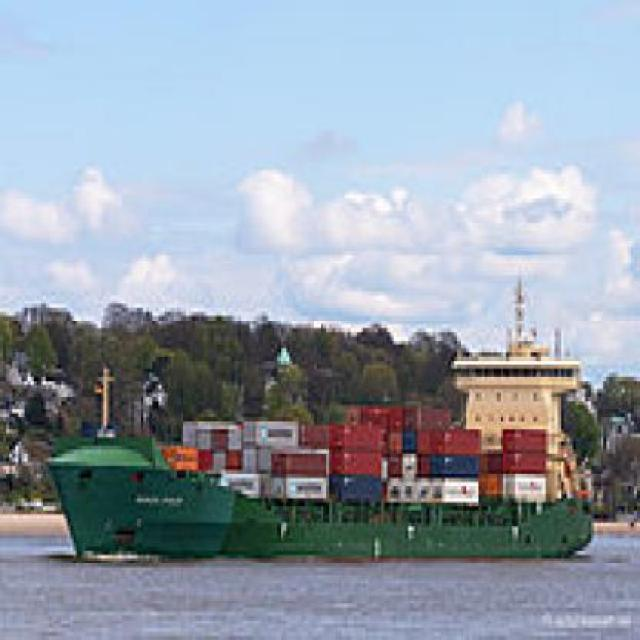container: (34, 268, 608, 580)
